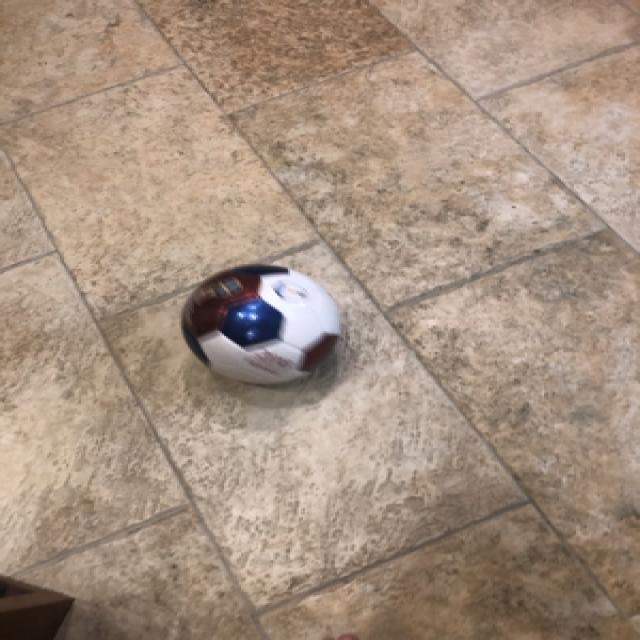soccer_ball: (175, 261, 343, 384)
